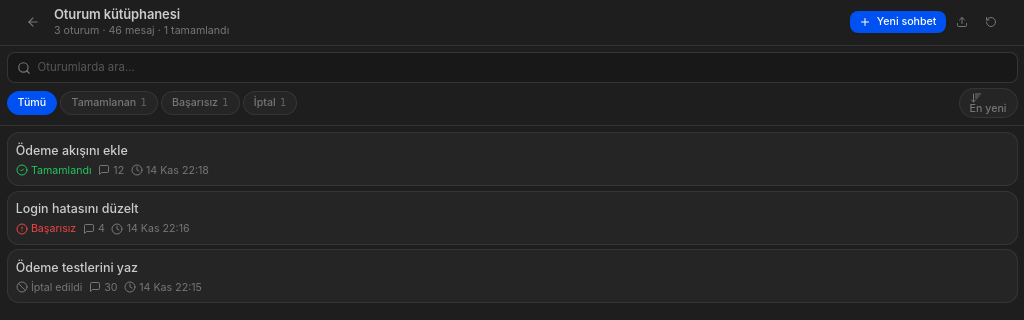
Test: HistoryView: arama › arama temizlenince tüm oturumlar döner
Expected: the text "Ödeme akışını ekle" is shown, x1=16 y1=143 x2=128 y2=158
Type "login" into the search field labelled "Oturumlarda ara" at (512,68), box x1=6 y1=52 x2=1018 y2=83
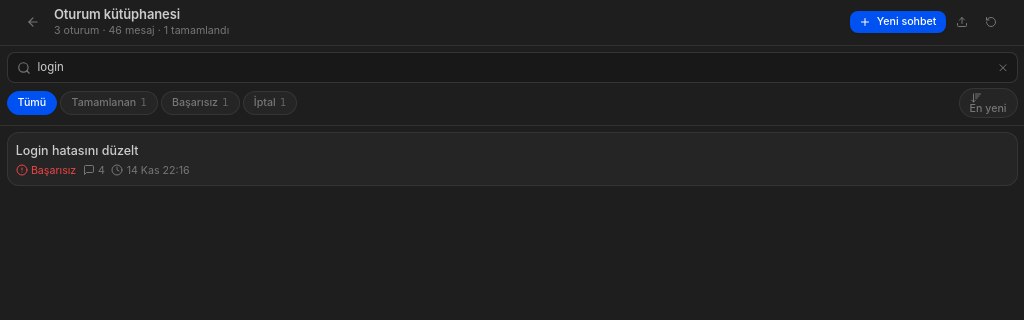
Now the button "Ödeme akışını ekle" is gone
Clear the search field named "Oturumlarda ara" at (512,68), box x1=6 y1=52 x2=1018 y2=83
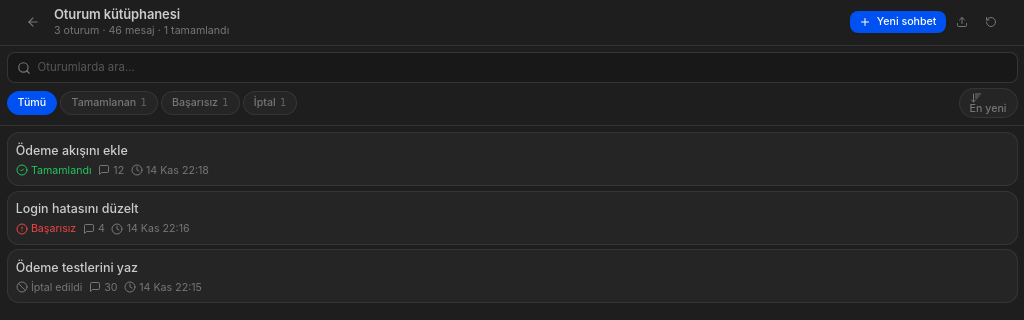
Now the text "Ödeme akışını ekle" is shown, box x1=16 y1=143 x2=128 y2=158
